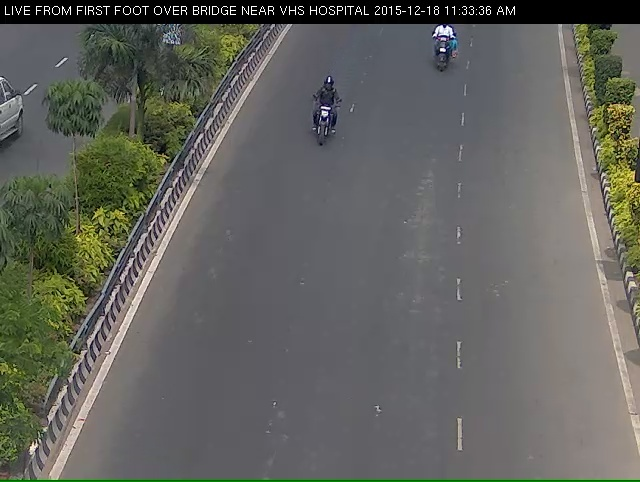Person: (303, 79, 343, 175), (422, 21, 469, 87)
